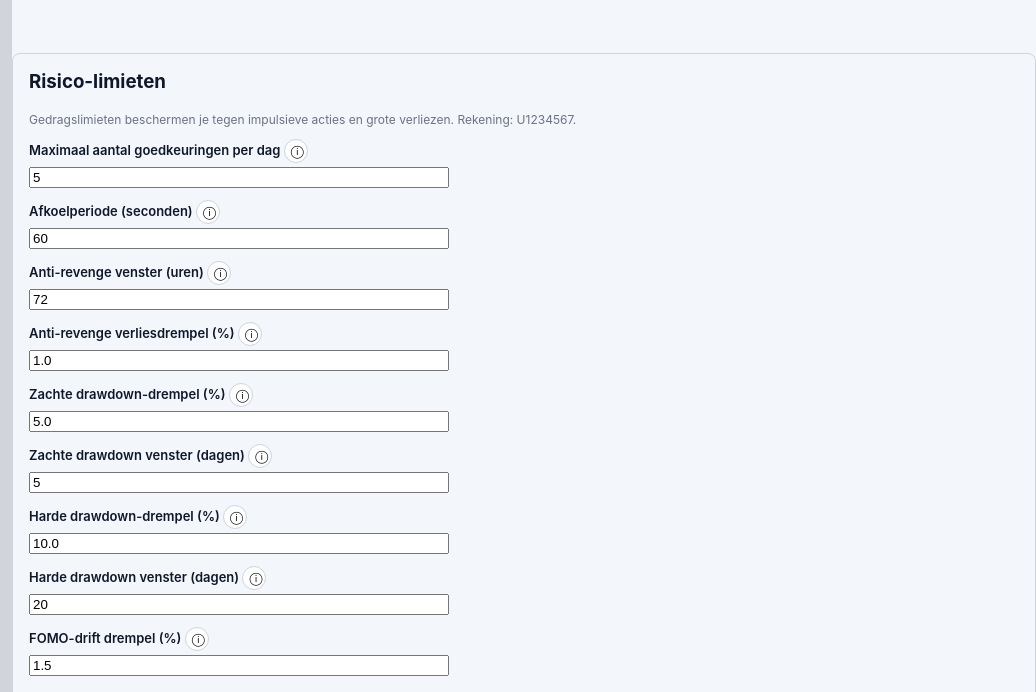
InstellingenPage › saves an edited risk-limit field via updateRiskLimits
This screenshot has width=1036, height=692.
Replace the text in the number field with test id "instellingen-risk-daily_max_approvals" with "3" at (239, 177), box [29,166,449,188]
(page scrolled)
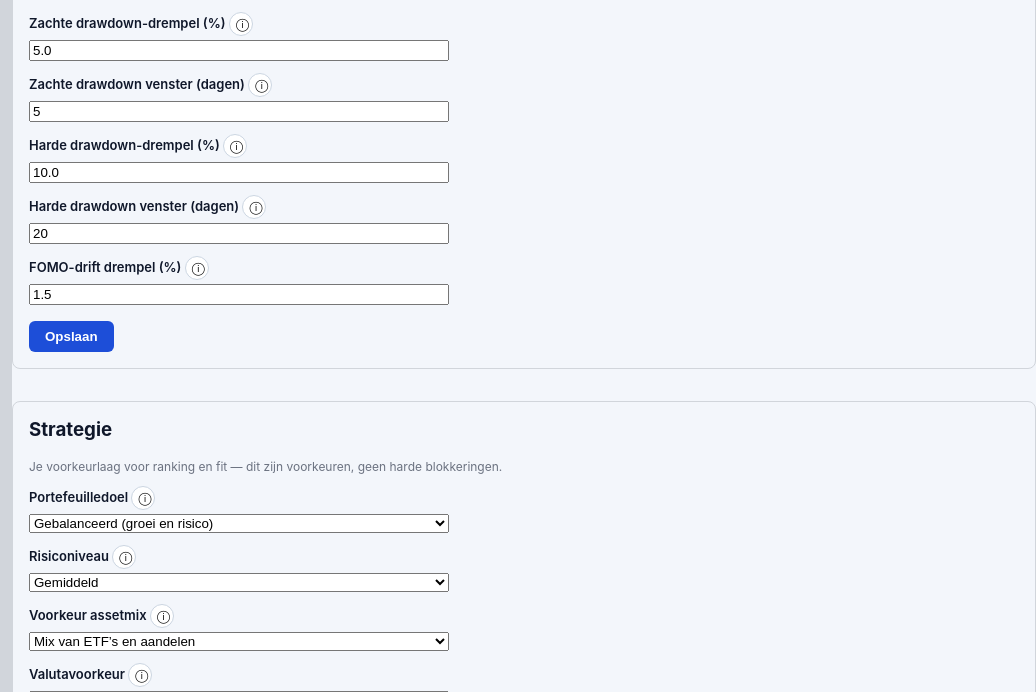
Click the button with test id "instellingen-risk-save-button" at (71, 336), box [29,320,114,352]
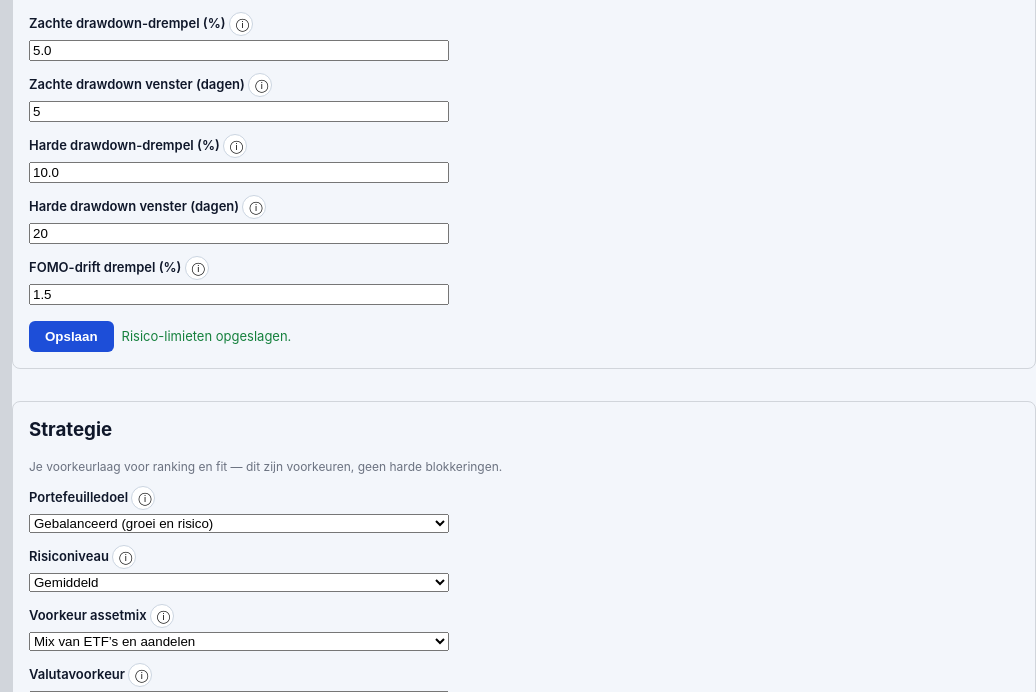
Expected: the text "Risico-limieten opgeslagen." is shown, [122,328,291,344]
